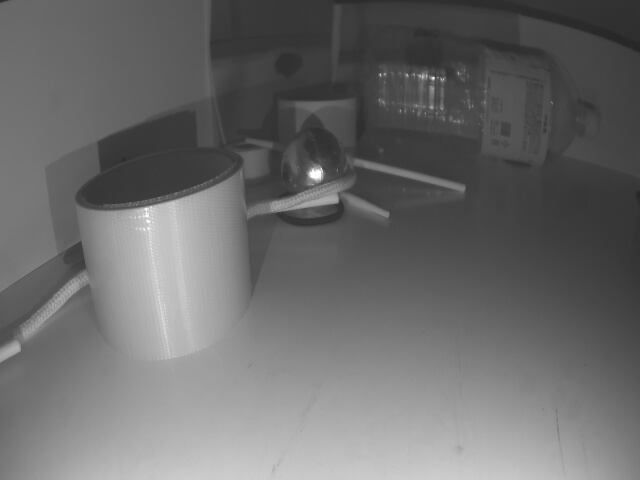Live: (279, 128, 345, 202)
